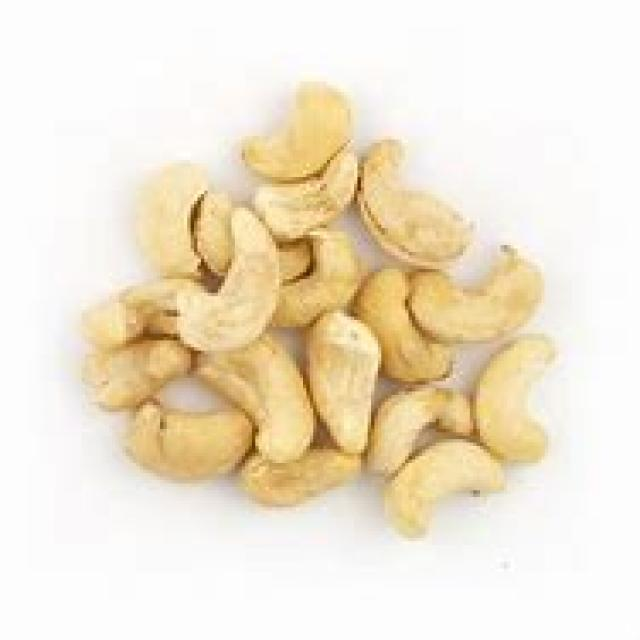Cashew: (355, 130, 492, 275), (232, 50, 388, 166), (413, 437, 541, 551), (405, 249, 564, 328), (471, 331, 576, 448), (205, 237, 302, 346), (311, 314, 380, 432), (238, 341, 310, 449), (374, 385, 466, 450)
